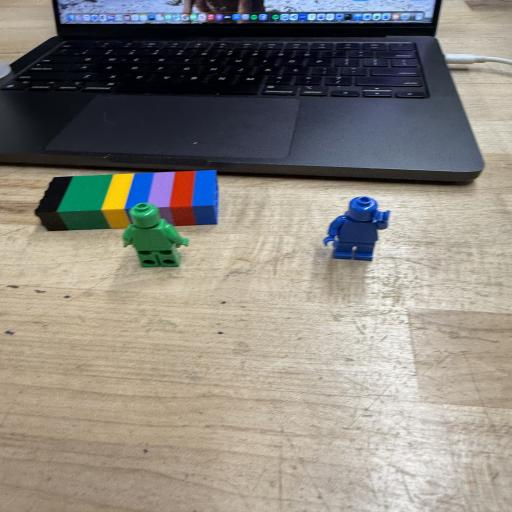blue-minifig: (324, 196, 389, 260)
green-minifig: (123, 203, 188, 267)
